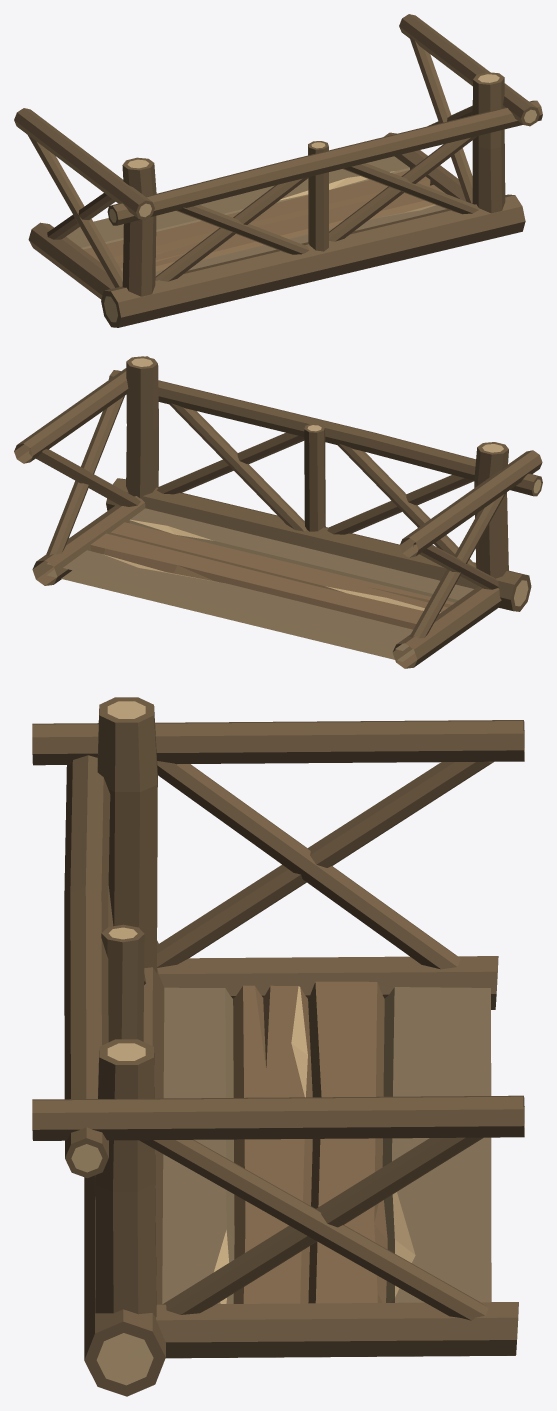
File: rpgpp_st_balcony_01_4m.fbx
The picture shows the model from 3 angles, top to bottom: view 1: azimuth 30°, elevation 25°; view 2: azimuth 150°, elevation 25°; view 3: azimuth 270°, elevation 25°; orthographic projection. The views are drawn at different scales.
Visible parts, largest first — view 1: rpgpp_st_balcony_01_4m; view 2: rpgpp_st_balcony_01_4m; view 3: rpgpp_st_balcony_01_4m.
Part boxes in pixels (<box>): rpgpp_st_balcony_01_4m: <box>14,14,542,327</box>; rpgpp_st_balcony_01_4m: <box>14,356,542,668</box>; rpgpp_st_balcony_01_4m: <box>32,697,524,1396</box>.
Bounding box in the file's own units: 4.79 × 1.72 × 2.41.
